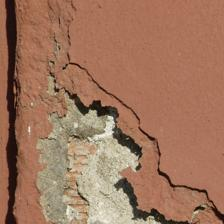Crack: (69, 0, 220, 141), (82, 0, 223, 73)
